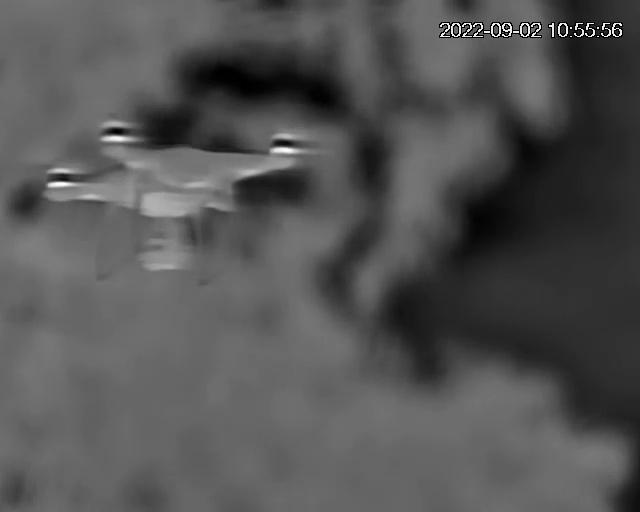DJI-Phantom: (45, 124, 311, 281)
